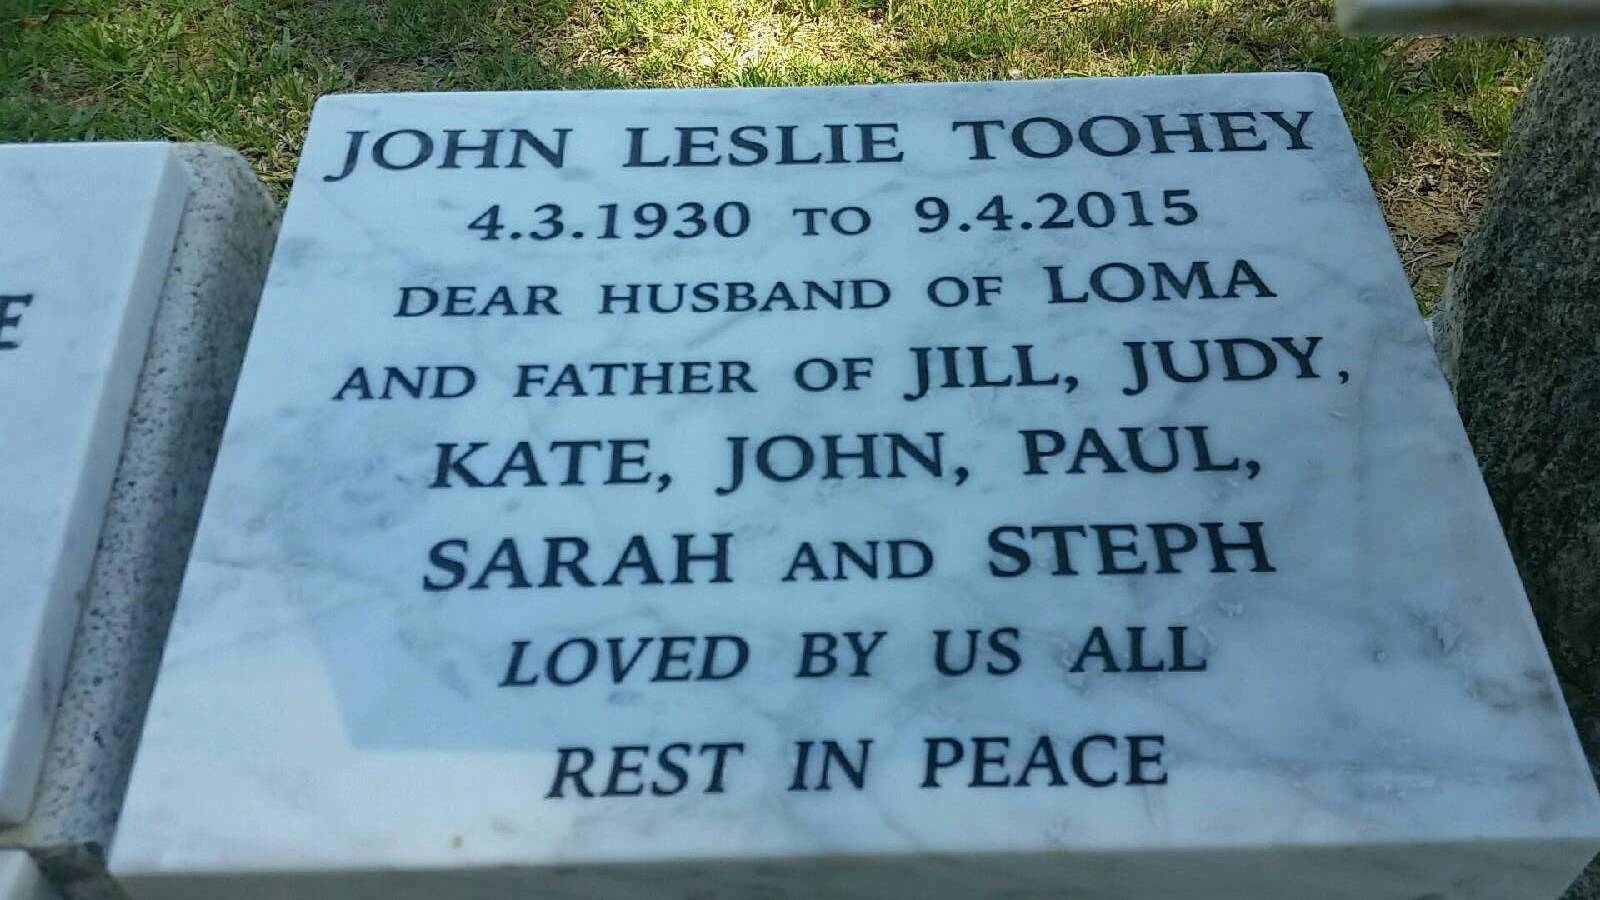flat: (92, 57, 1593, 886)
